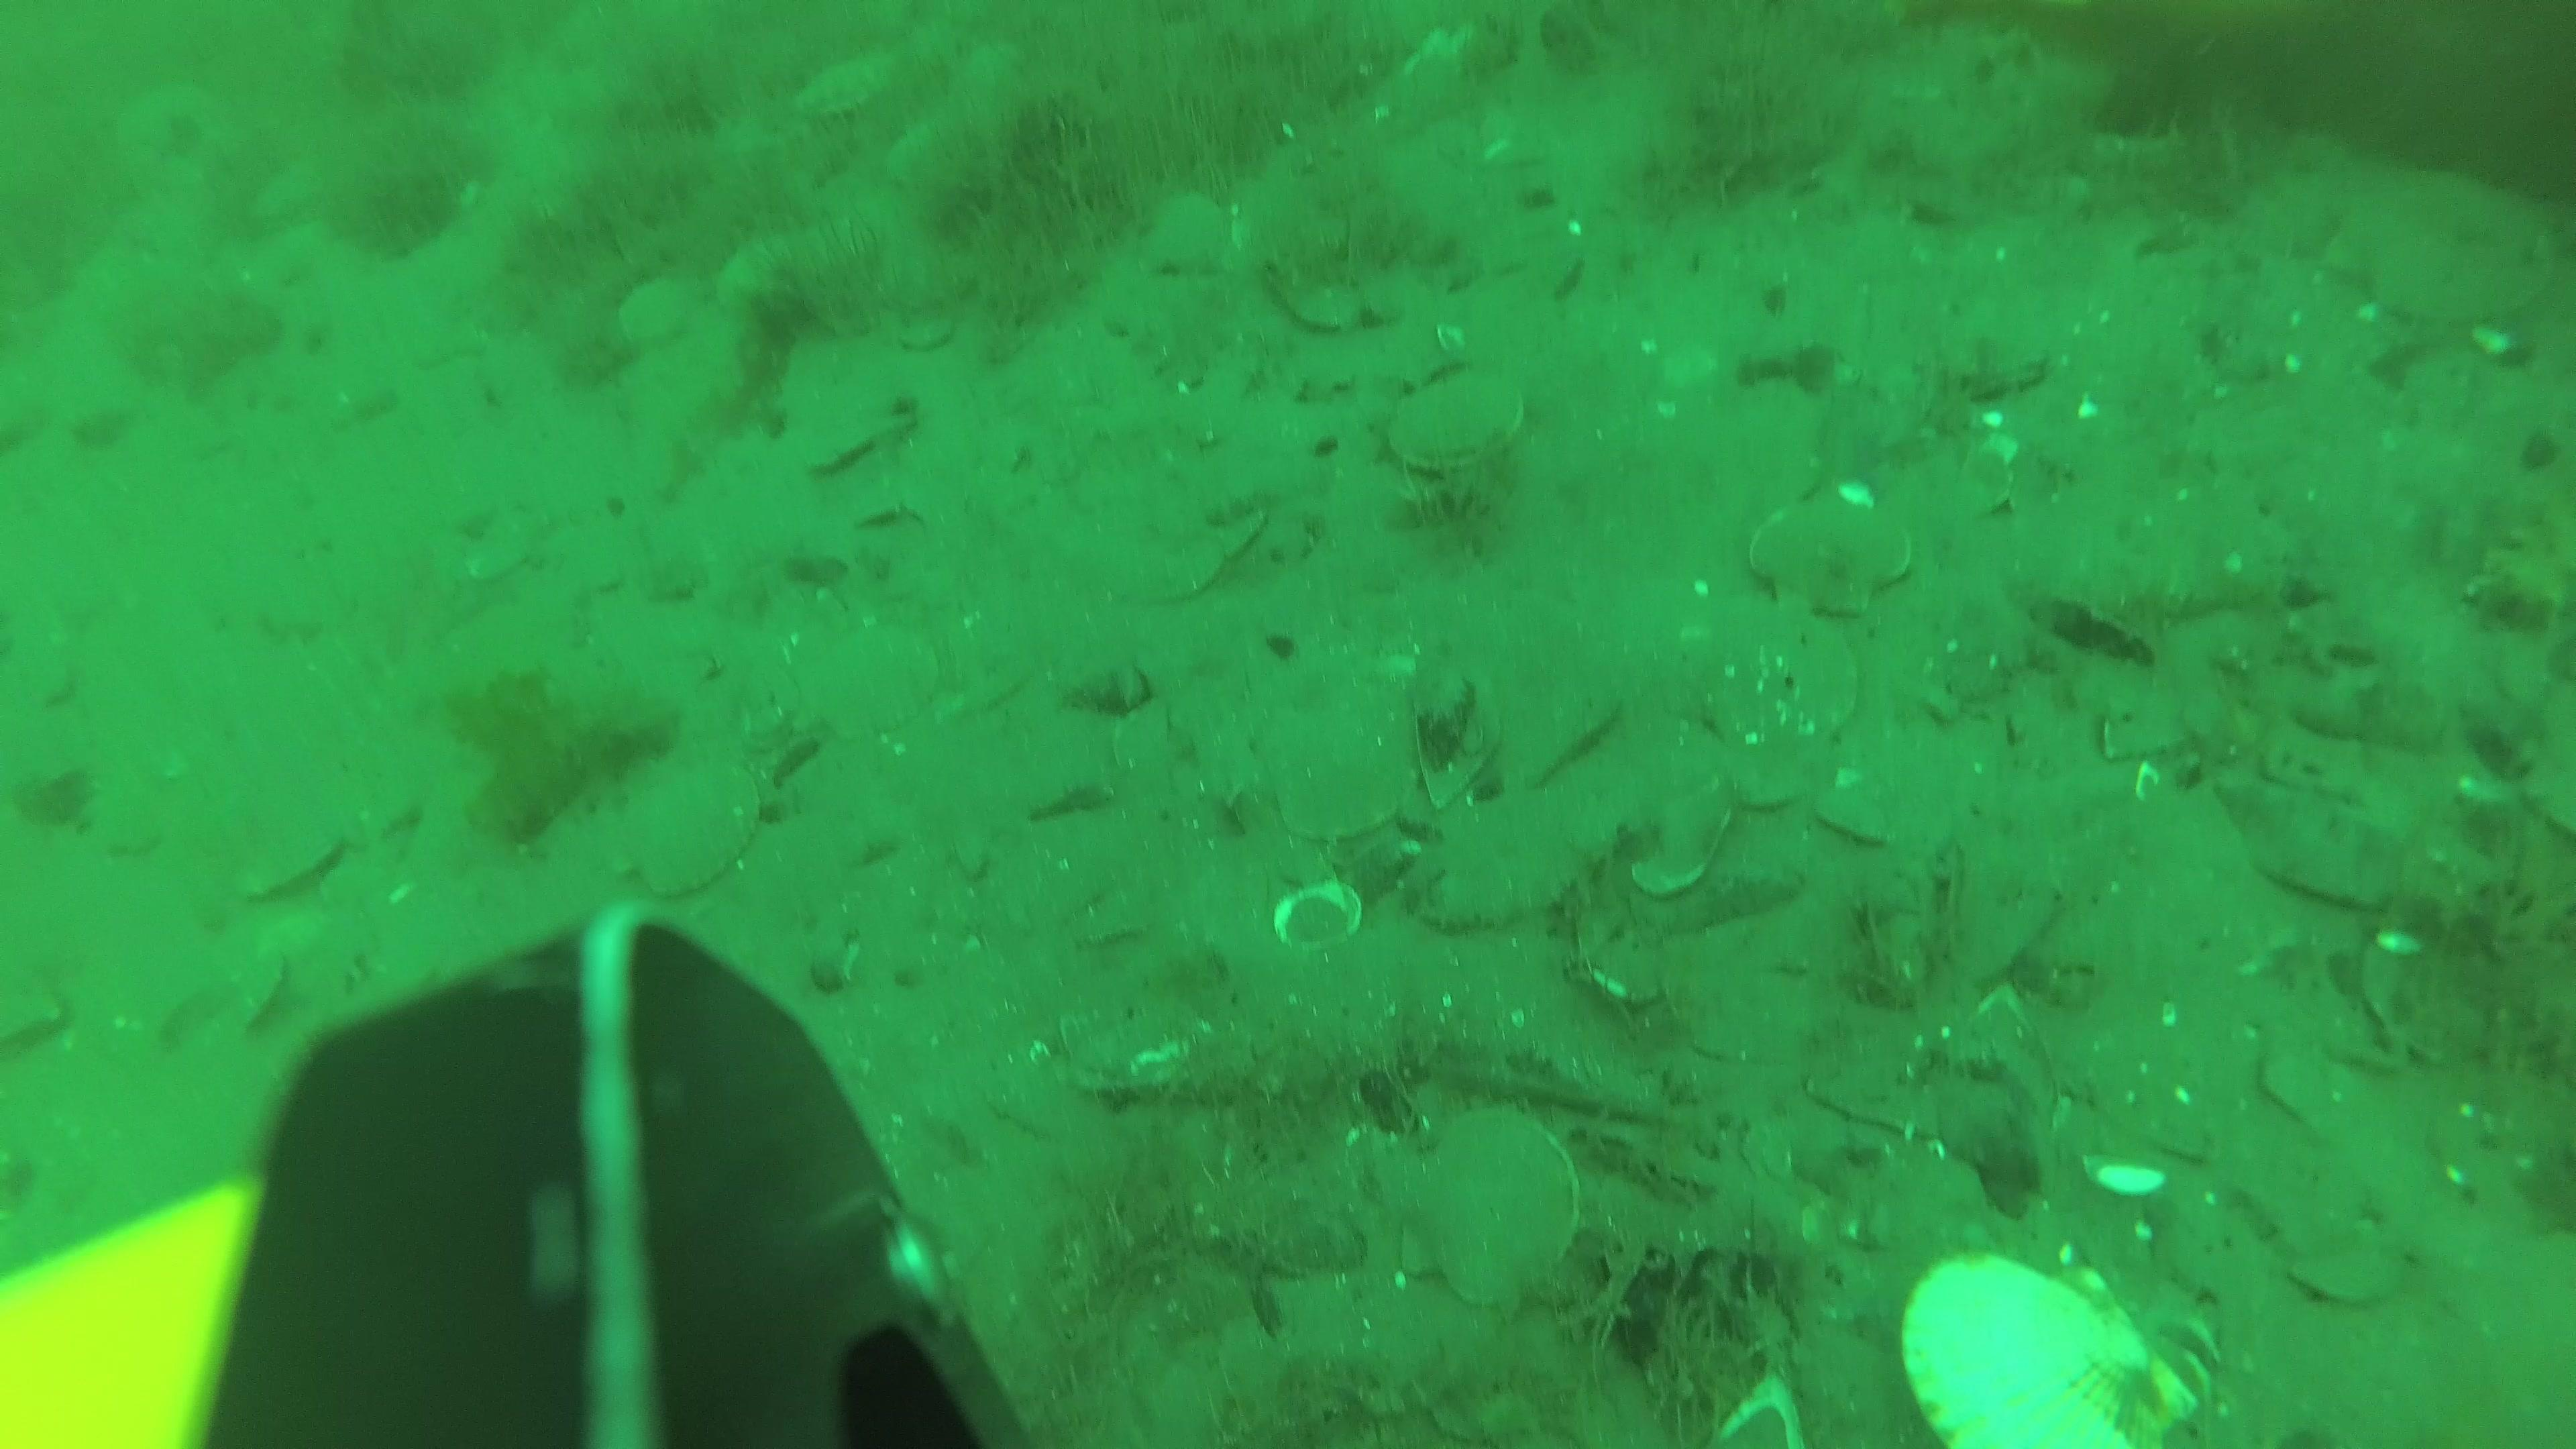scallop: (1898, 1238, 2204, 1449), (1387, 1102, 1585, 1304), (2337, 173, 2565, 338), (1691, 600, 1859, 743), (1476, 663, 1619, 807), (1753, 497, 1913, 619), (1267, 690, 1417, 814), (625, 775, 764, 888), (1394, 366, 1523, 487), (814, 621, 947, 738), (2296, 1224, 2426, 1311), (1138, 191, 1240, 280), (796, 53, 908, 120), (237, 839, 340, 901), (617, 278, 709, 347)
